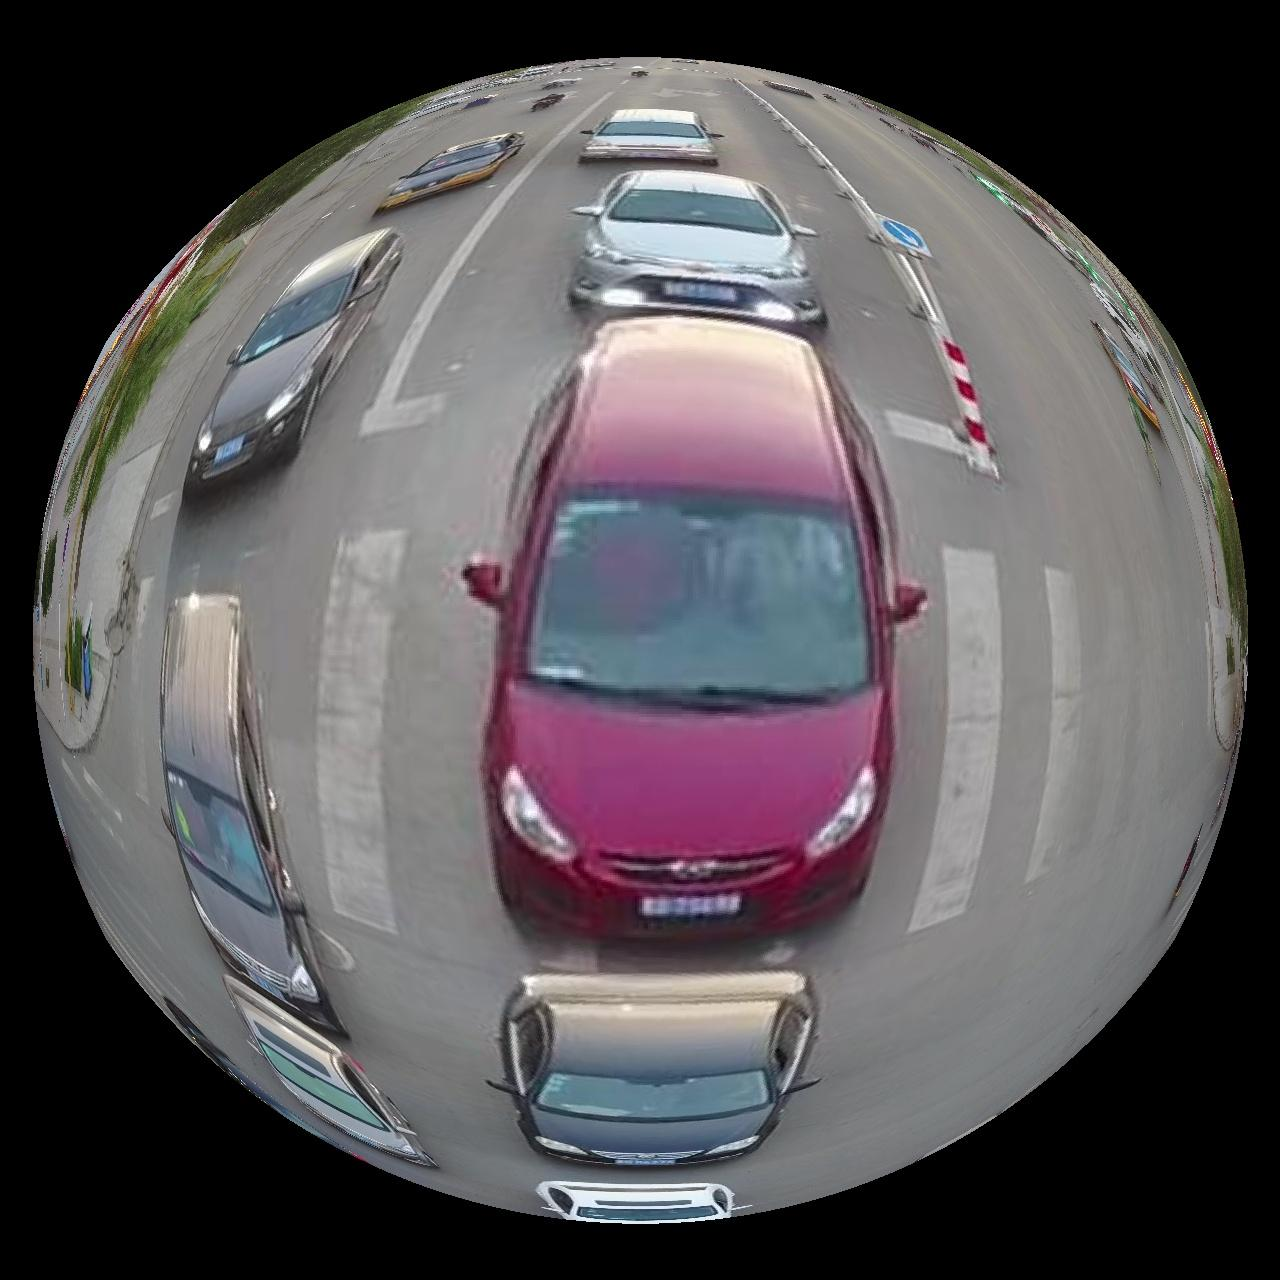cars: (463, 315, 930, 939), (159, 594, 339, 1032), (502, 973, 817, 1167), (185, 229, 401, 492), (570, 169, 825, 325), (224, 980, 433, 1167), (375, 131, 523, 212), (537, 1183, 734, 1226), (583, 108, 717, 163)
